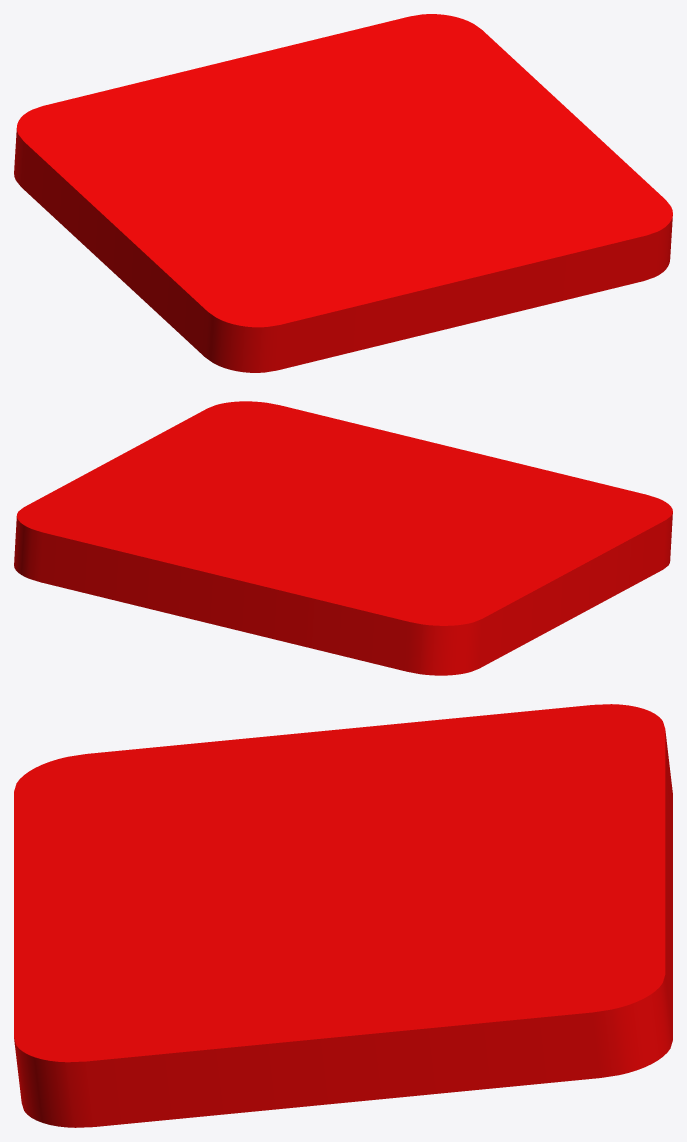
Rendered from original-40.obj.
3 views of the same model, one above another, from view 1: azimuth 30°, elevation 25°; view 2: azimuth 150°, elevation 25°; view 3: azimuth 270°, elevation 25° (orthographic). The views are drawn at different scales.
Parts seen in each view (by area): view 1: Normal_Key15/Normal_Key/mesh28/mesh28-geometry#mesh28-geometry; view 2: Normal_Key15/Normal_Key/mesh28/mesh28-geometry#mesh28-geometry; view 3: Normal_Key15/Normal_Key/mesh28/mesh28-geometry#mesh28-geometry.
Boxes of the visible parts, <box> form: Normal_Key15/Normal_Key/mesh28/mesh28-geometry#mesh28-geometry: <box>14,14,672,372</box>; Normal_Key15/Normal_Key/mesh28/mesh28-geometry#mesh28-geometry: <box>14,401,672,675</box>; Normal_Key15/Normal_Key/mesh28/mesh28-geometry#mesh28-geometry: <box>14,704,672,1127</box>.
Bounding box in the file's own units: 0.1039 × 0.0203 × 0.0941.
